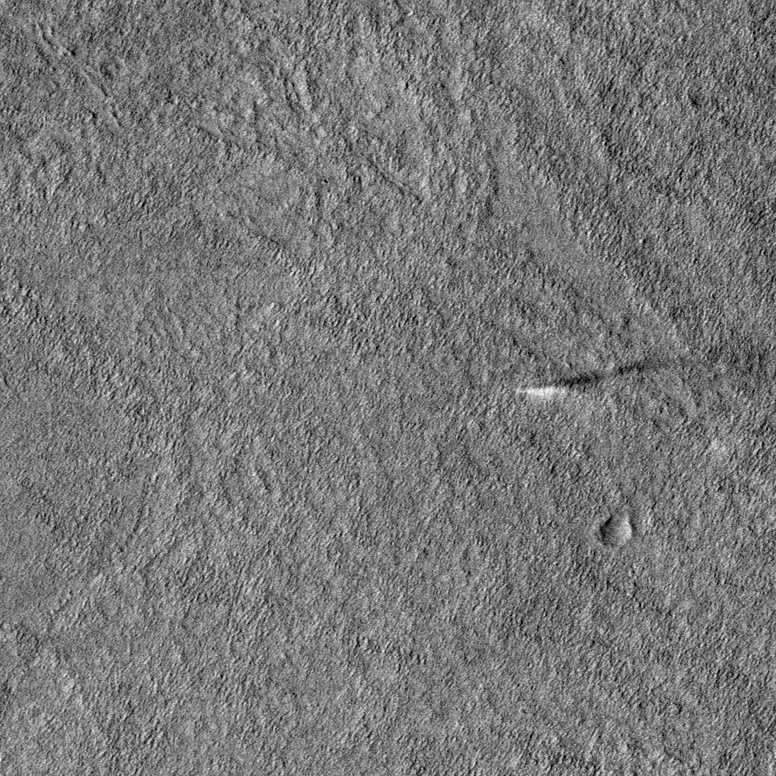dust_devil: (515, 360, 645, 401)
